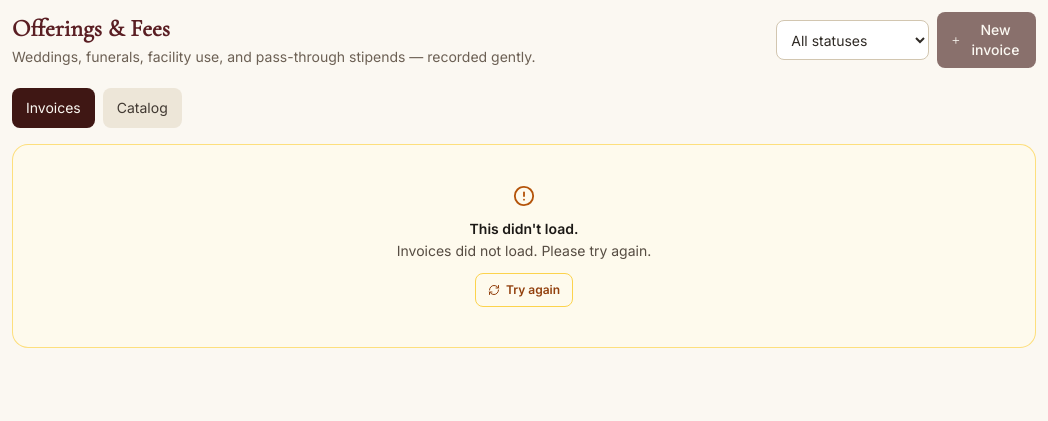
Test: invoices when the list did not load › retry after a refusal can show a truly empty list
This screenshot has width=1048, height=421.
Check: the text "Invoices did not load. Please try again." is shown, box [397,241,651,261]
Click the button "Try again".
click(524, 290)  # box [475,273,573,307]
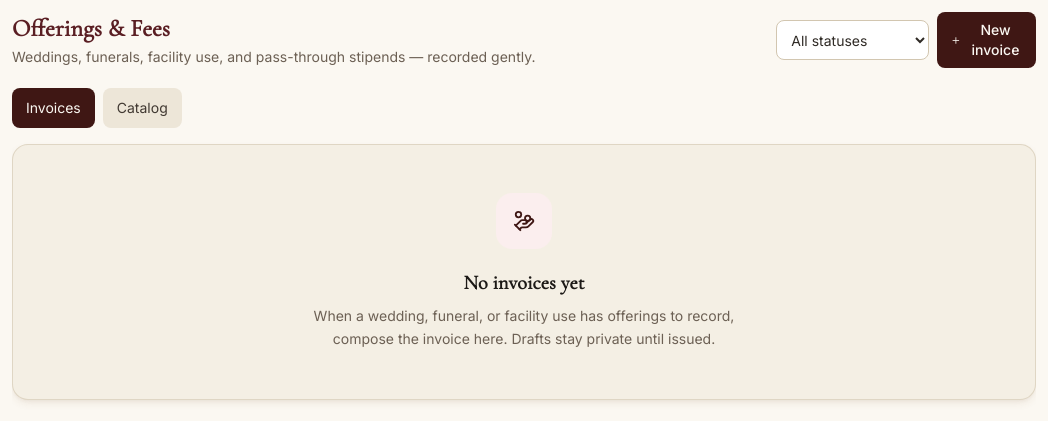
Check: the heading "No invoices yet" is shown, box [463,271,584,295]
Check: the text "Invoices did not load. Please try again." is gone
